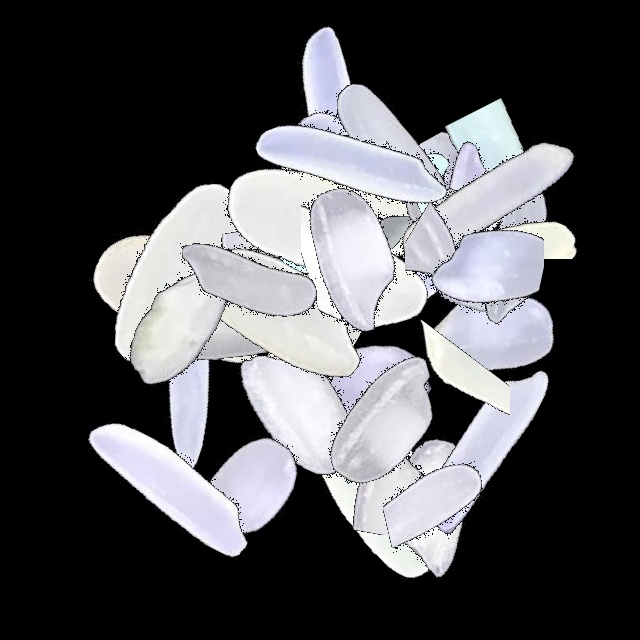Broken: (371, 132, 544, 382), (348, 211, 598, 379), (271, 377, 521, 535), (383, 374, 540, 624), (180, 144, 333, 394), (301, 115, 454, 365), (215, 177, 367, 427), (372, 86, 511, 336), (230, 158, 480, 281), (405, 133, 527, 383), (195, 164, 314, 414), (441, 39, 557, 289), (394, 291, 510, 541), (385, 151, 500, 401), (377, 150, 627, 260), (383, 152, 633, 259), (233, 141, 483, 241), (390, 175, 640, 273), (247, 160, 497, 249), (236, 140, 486, 229), (175, 182, 259, 432), (314, 140, 564, 217), (384, 139, 634, 216)
Full: (211, 102, 461, 352), (284, 60, 534, 310), (215, 0, 465, 250), (346, 104, 596, 354), (253, 360, 503, 610), (312, 379, 562, 629), (63, 246, 313, 496), (247, 68, 497, 318), (58, 172, 308, 422), (238, 88, 488, 338), (56, 147, 306, 397), (251, 264, 501, 514), (199, 97, 449, 347), (173, 285, 423, 535), (360, 324, 610, 574), (123, 365, 373, 615), (97, 199, 347, 449), (255, 298, 505, 548), (390, 127, 640, 377), (265, 13, 515, 263), (160, 185, 410, 435), (46, 361, 296, 611), (52, 203, 302, 453), (229, 135, 479, 385), (226, 42, 476, 292), (359, 76, 609, 326), (126, 155, 376, 405)
